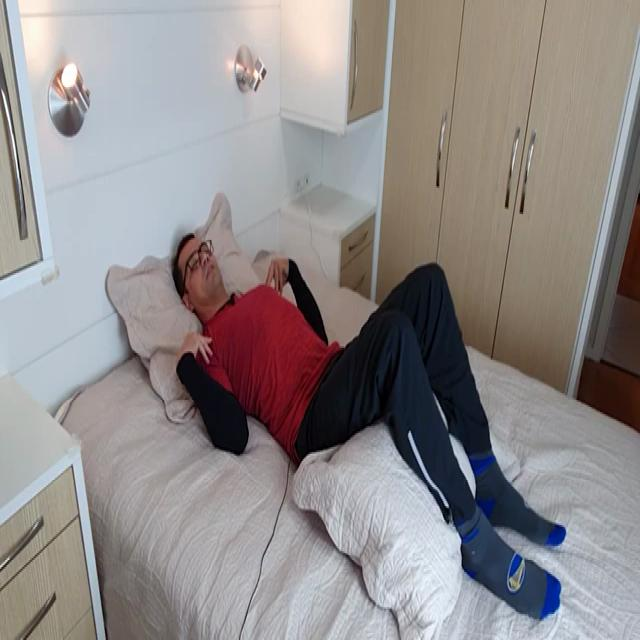deitado: (167, 195, 602, 624)
